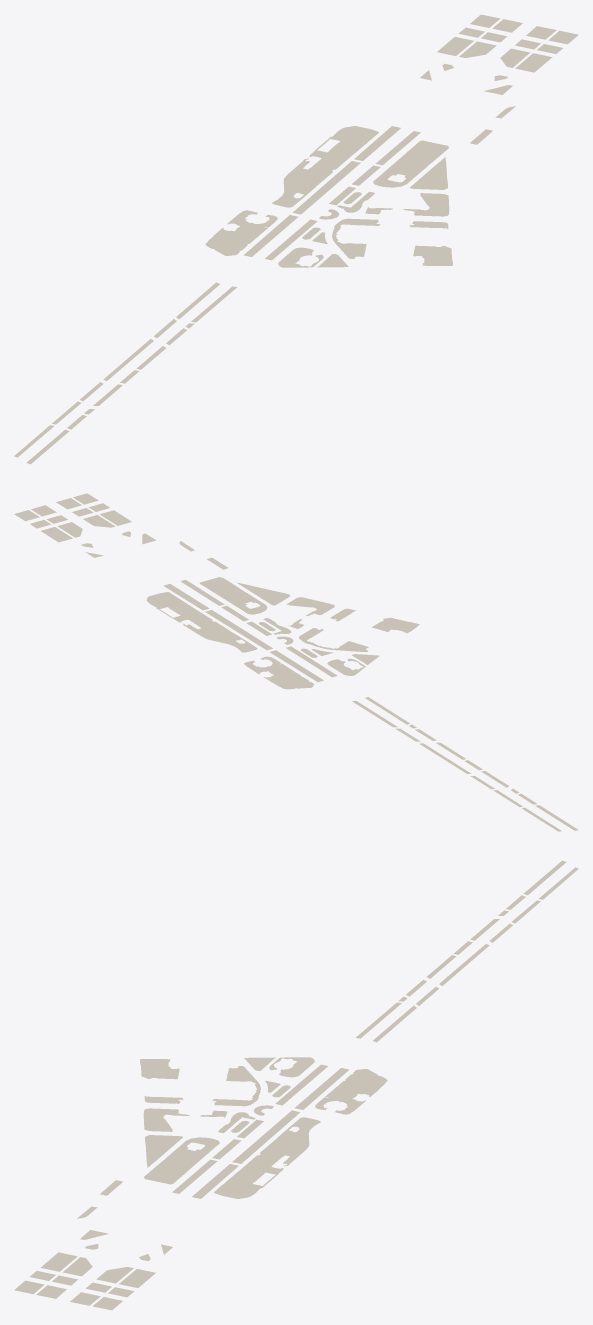
The model's file is parks_before.gltf.
The picture shows the model from 3 angles, top to bottom: view 1: azimuth 90°, elevation 25°; view 2: azimuth 150°, elevation 25°; view 3: azimuth 270°, elevation 25°; orthographic projection. The views are drawn at different scales.
Parts seen in each view (by area): view 1: parks_before; view 2: parks_before; view 3: parks_before.
Part boxes in pixels (left/top/right/bottom): parks_before: left=14, top=14, right=578, bottom=464; parks_before: left=14, top=493, right=578, bottom=831; parks_before: left=14, top=860, right=578, bottom=1310.
Size of the model in its own units: 54.49 by 6.42e-15 by 28.91.
